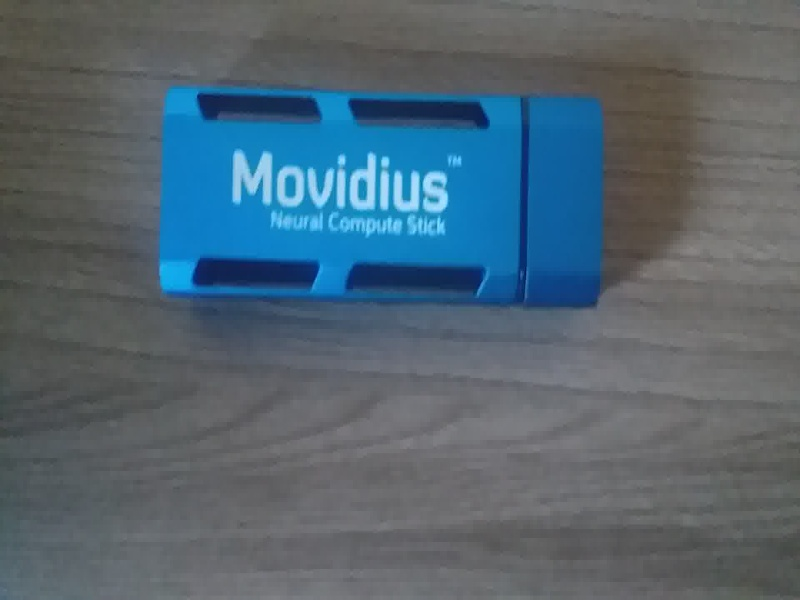movidius: (153, 71, 609, 320)
